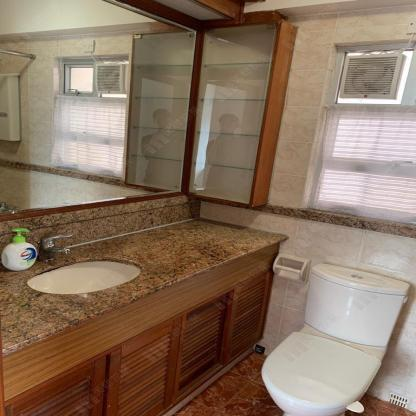Exhaust Fan: (339, 52, 403, 99)
Faucet: (37, 232, 74, 262)
Toilet: (261, 262, 413, 416)
Toilet Sink: (1, 245, 195, 327)
